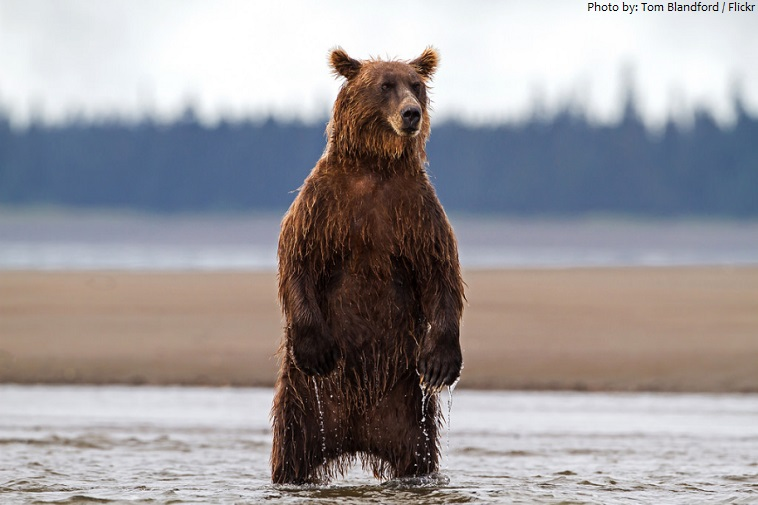bear: (322, 46, 442, 137)
